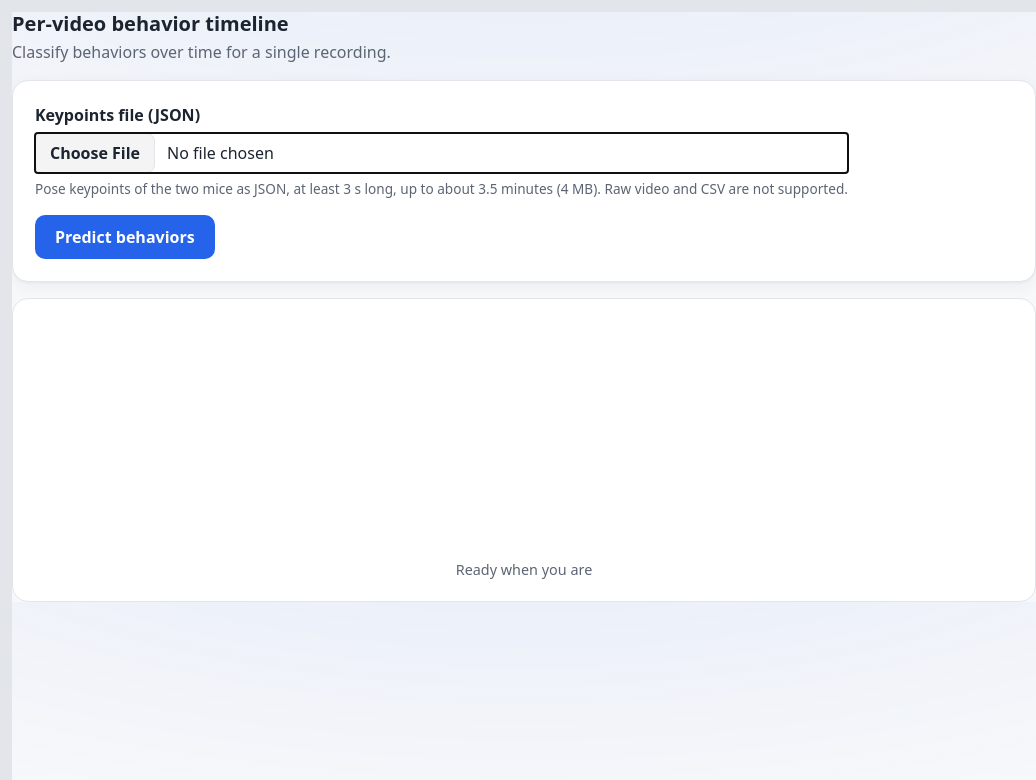
TimelineView › sends the selected file to predict and renders the timeline
Earlier steps of the test are not shown.
Click the button "Predict behaviors" at (125, 237), box [35,215,215,259]
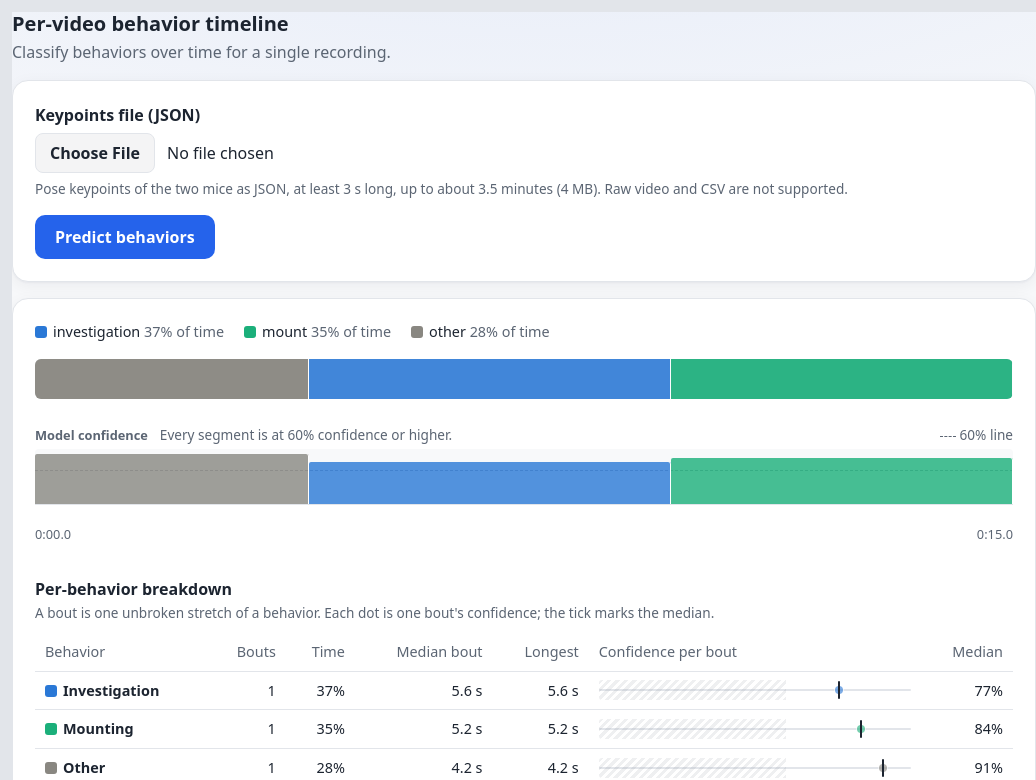
Now the picture named "behavior timeline" is shown, box [35,359,1013,399]
